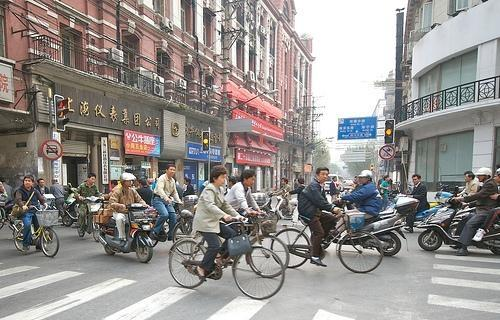bicycle: (168, 214, 286, 300), (275, 209, 385, 274), (12, 205, 60, 257), (246, 213, 290, 269), (74, 196, 110, 242), (172, 201, 194, 241), (148, 222, 176, 246)
motorcycle: (334, 198, 420, 255), (98, 204, 154, 264), (418, 220, 500, 256), (452, 202, 477, 236), (414, 201, 446, 227), (62, 197, 79, 227), (414, 218, 424, 227)
